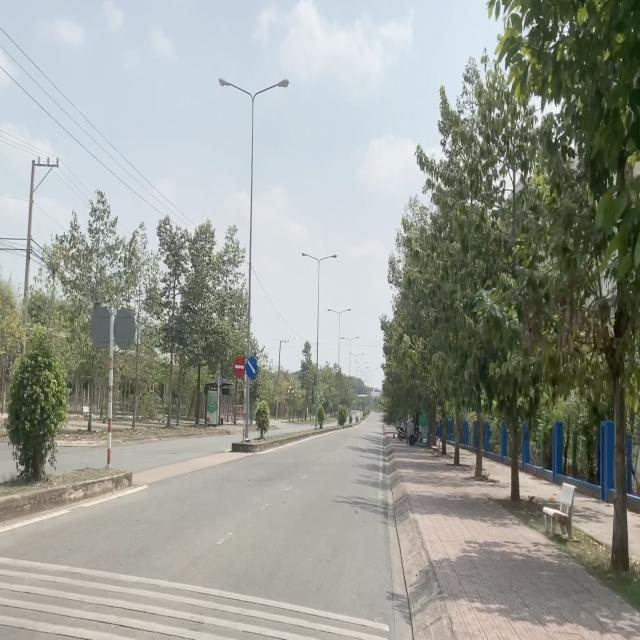Cam nguoc chieu: (233, 356, 246, 378)
Hieu lenh: (245, 356, 258, 379)
